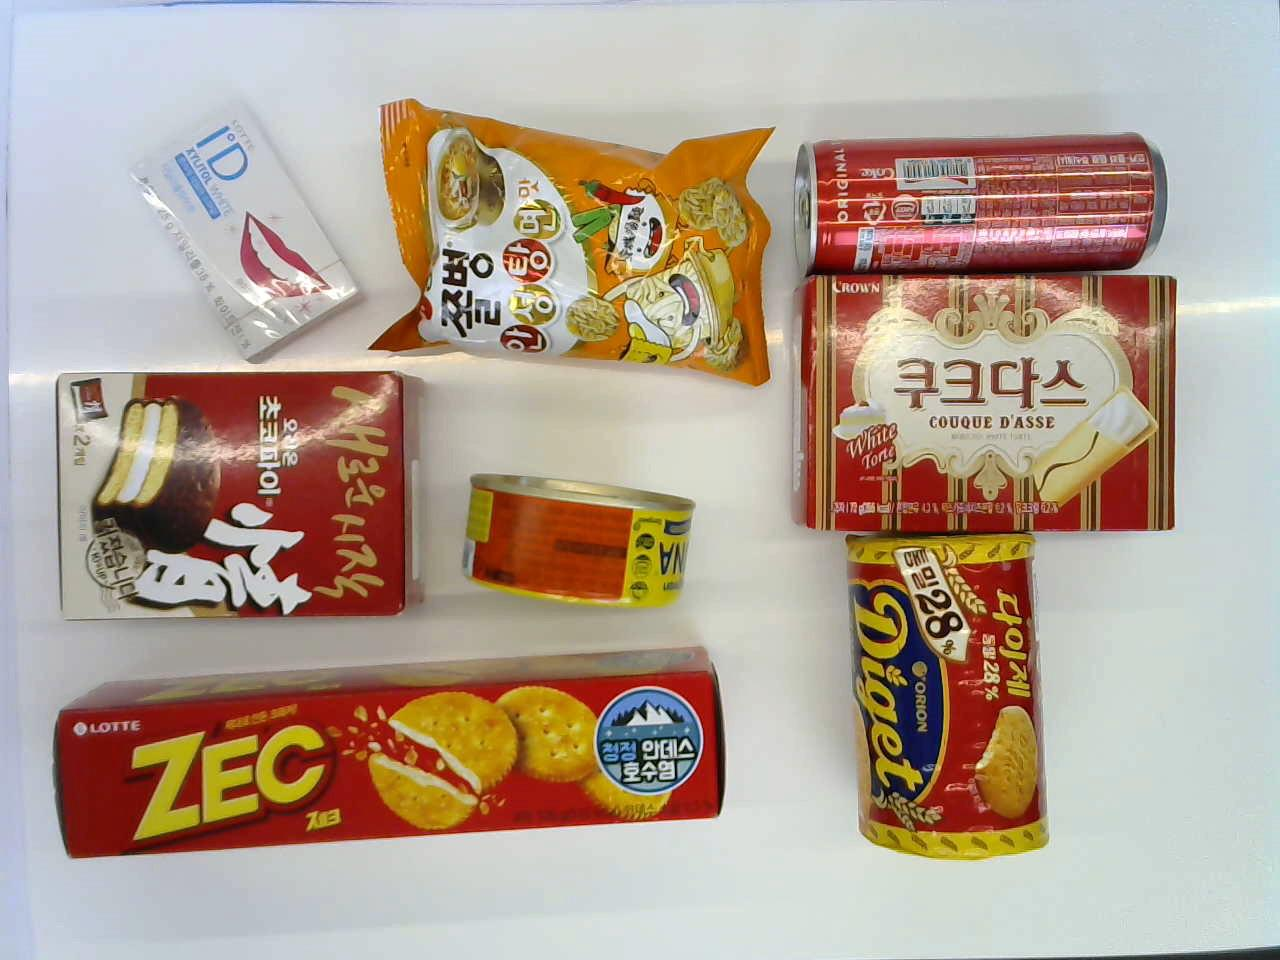ID_gum: (122, 89, 361, 361)
chocopie: (36, 363, 429, 626)
coke: (787, 128, 1175, 267)
couque_white: (796, 267, 1187, 554)
diget_ori: (843, 525, 1054, 871)
jjolbyung_noodle: (371, 94, 786, 397)
tuna: (450, 457, 695, 615)
zec: (51, 646, 733, 878)
